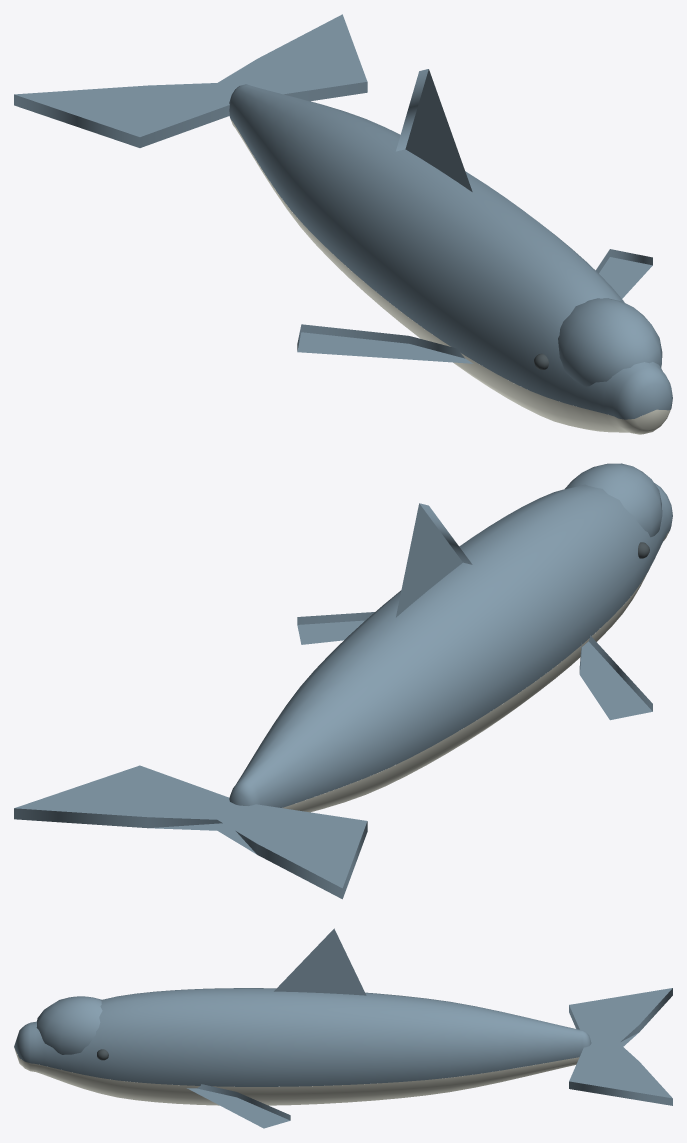
The model's file is open-ocean-and-deep-sea-life-pilot-whale-d80d7425__5863.glb.
3 views of the same model, one above another, from view 1: azimuth 30°, elevation 25°; view 2: azimuth 150°, elevation 25°; view 3: azimuth 270°, elevation 25° (orthographic). The views are drawn at different scales.
Parts seen in each view (by area): view 1: pilot-whale; view 2: pilot-whale; view 3: pilot-whale.
Part boxes in pixels (box(x1,y1,x2,y2)): pilot-whale: box(14, 14, 672, 434); pilot-whale: box(14, 463, 672, 899); pilot-whale: box(14, 928, 672, 1128).
Size of the model in its own units: 2.15 by 1.43 by 5.
